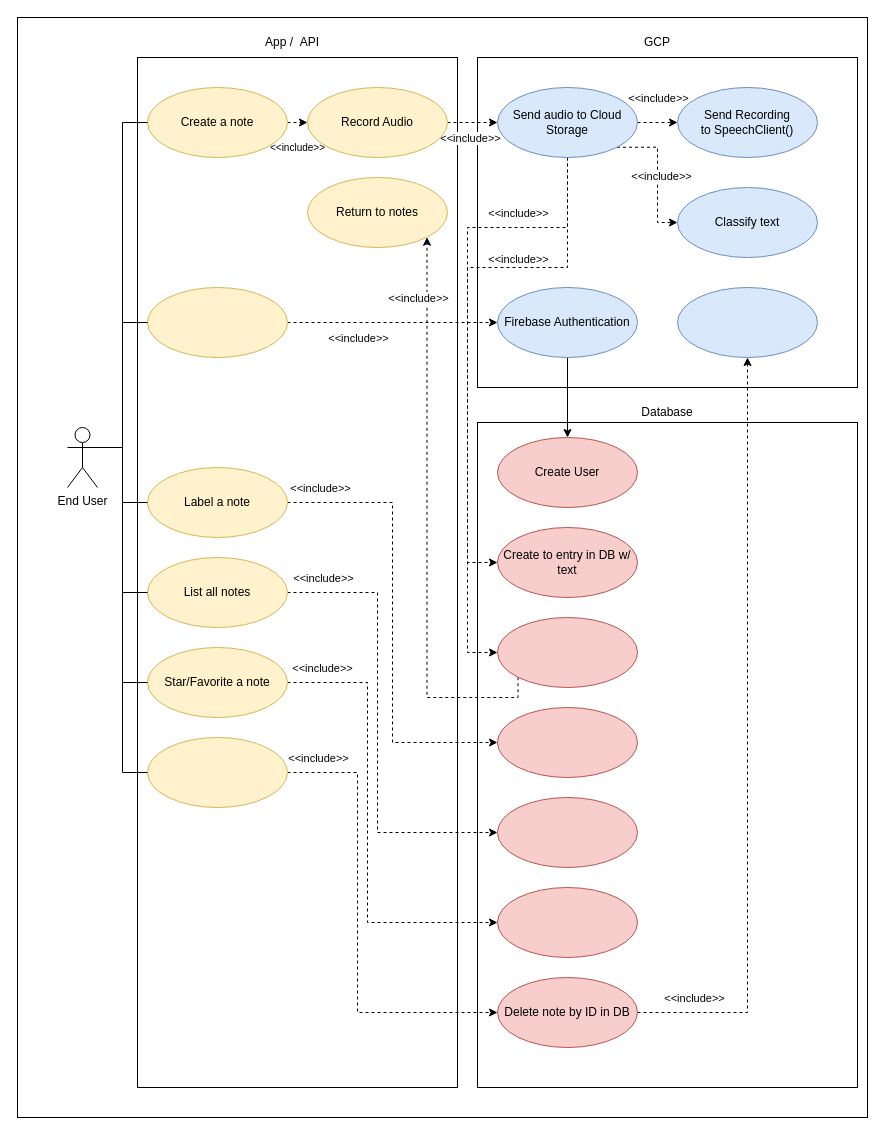
The diagram is 885 pixels wide and 1135 high, and some of its shapes have lost their labels. Each missing label, with the box of its shape:
Delete a note: (146, 736, 288, 808)
Login: (146, 286, 288, 358)
Query DB for all notes by User ID: (496, 796, 638, 868)
Remove audio from cloud storage: (676, 286, 818, 358)
Update Classification in DB: (496, 706, 638, 778)
Update Note with classification: (496, 616, 638, 688)
Update Status in DB: (496, 886, 638, 958)
